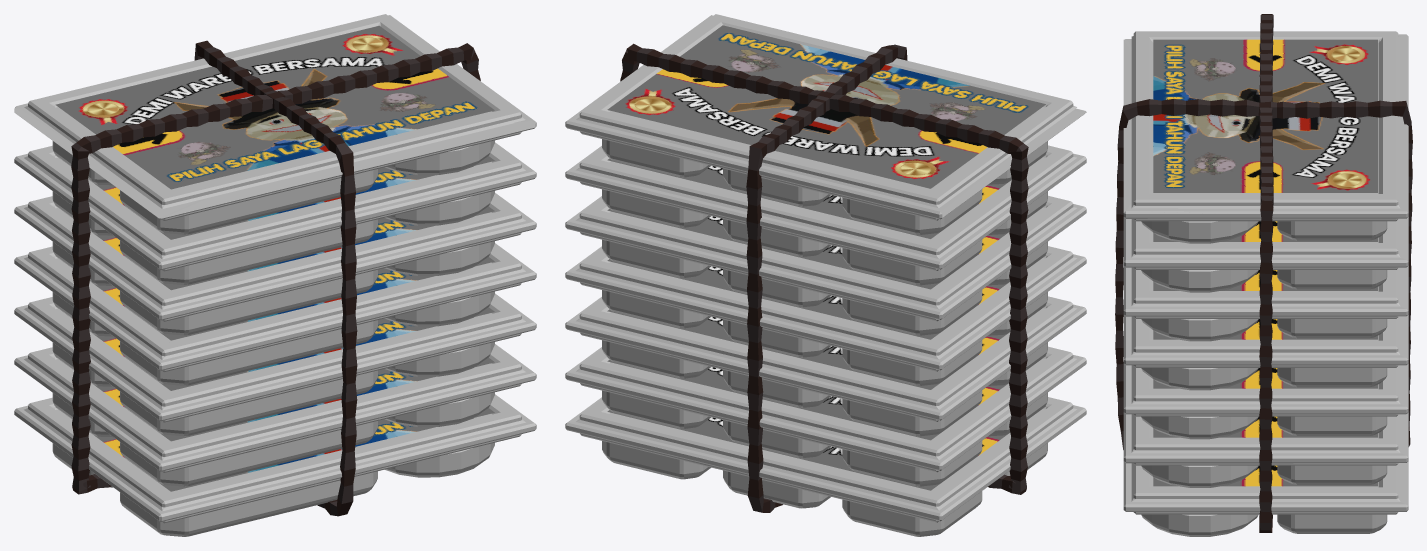
File: OMPRENG-MBG_numpuk7_buat-dimobil.fbx
The picture shows the model from 3 angles, left to right: view 1: azimuth 30°, elevation 25°; view 2: azimuth 150°, elevation 25°; view 3: azimuth 270°, elevation 25°; orthographic projection. The views are drawn at different scales.
Parts seen in each view (by area): view 1: Ungu dan Hijau Modern Makanan Bergizi Gratis Presentasi.001, Cube.001, Cube.002; view 2: Ungu dan Hijau Modern Makanan Bergizi Gratis Presentasi.001, Cube.001, Cube.002; view 3: Ungu dan Hijau Modern Makanan Bergizi Gratis Presentasi.001, Cube.002, Cube.001.
Part boxes in pixels (x1=…): Ungu dan Hijau Modern Makanan Bergizi Gratis Presentasi.001: x1=14, y1=14, x2=536, y2=536; Cube.001: x1=71, y1=43, x2=480, y2=494; Cube.002: x1=194, y1=40, x2=357, y2=516; Ungu dan Hijau Modern Makanan Bergizi Gratis Presentasi.001: x1=565, y1=14, x2=1086, y2=536; Cube.001: x1=620, y1=43, x2=1028, y2=494; Cube.002: x1=746, y1=44, x2=907, y2=512; Ungu dan Hijau Modern Makanan Bergizi Gratis Presentasi.001: x1=1123, y1=31, x2=1408, y2=536; Cube.002: x1=1115, y1=99, x2=1412, y2=449; Cube.001: x1=1259, y1=14, x2=1273, y2=532.
Bounding box in the file's own units: 4258 × 3783 × 2799.
6 materials, 1 textured.
